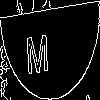M: (25, 25, 50, 75)
